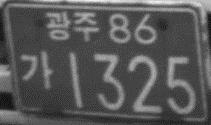1: (66, 49, 84, 110)
2: (129, 53, 162, 117)
3: (92, 51, 124, 111)
5: (165, 55, 197, 116)
6: (134, 12, 158, 45)
8: (108, 12, 132, 44)
가: (20, 50, 54, 90)
광주_O: (44, 8, 100, 40)
